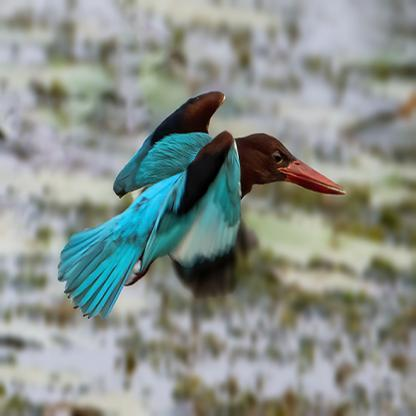Burung: (57, 90, 345, 320)
